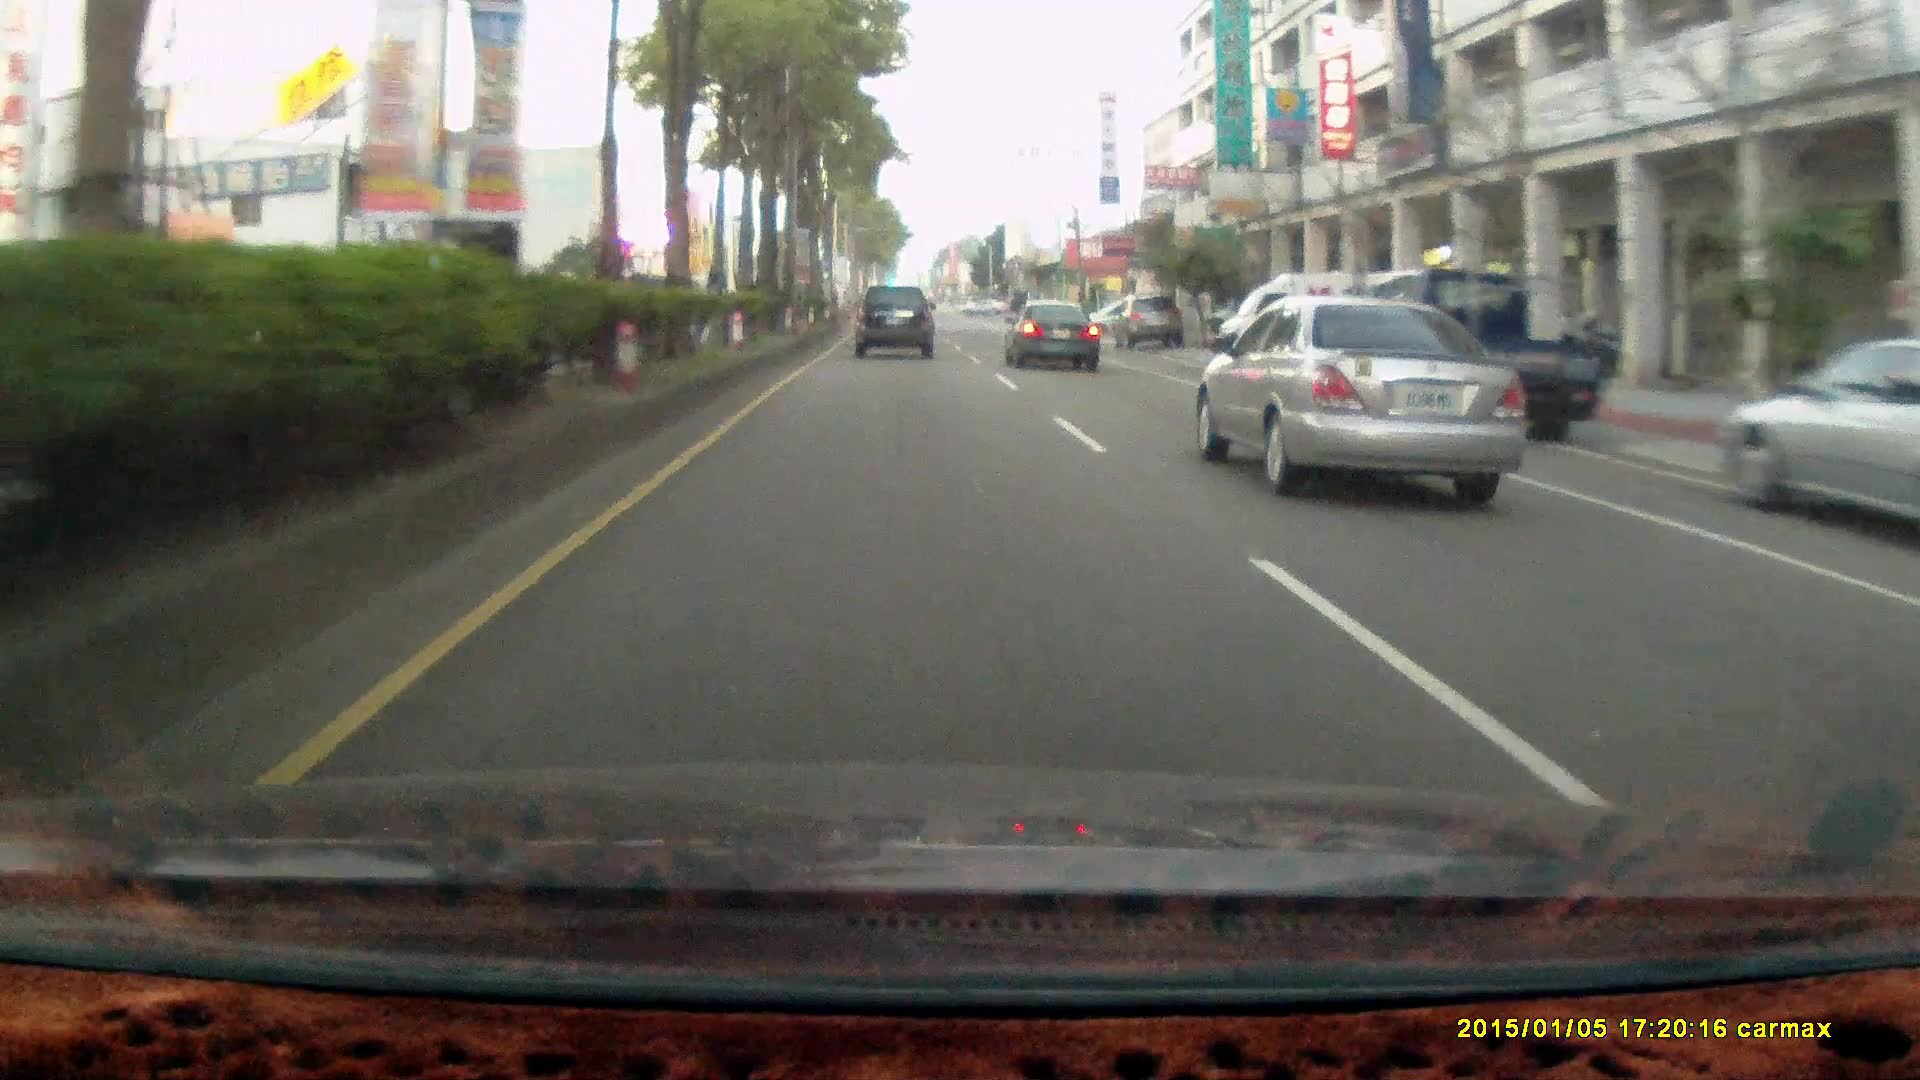vehicle: (1199, 287, 1527, 495), (1342, 268, 1596, 442), (1383, 265, 1633, 439), (1713, 335, 1920, 531), (1211, 268, 1400, 381), (1001, 298, 1105, 371), (1002, 298, 1097, 371), (855, 282, 940, 359), (852, 281, 932, 356), (1113, 291, 1184, 345)
